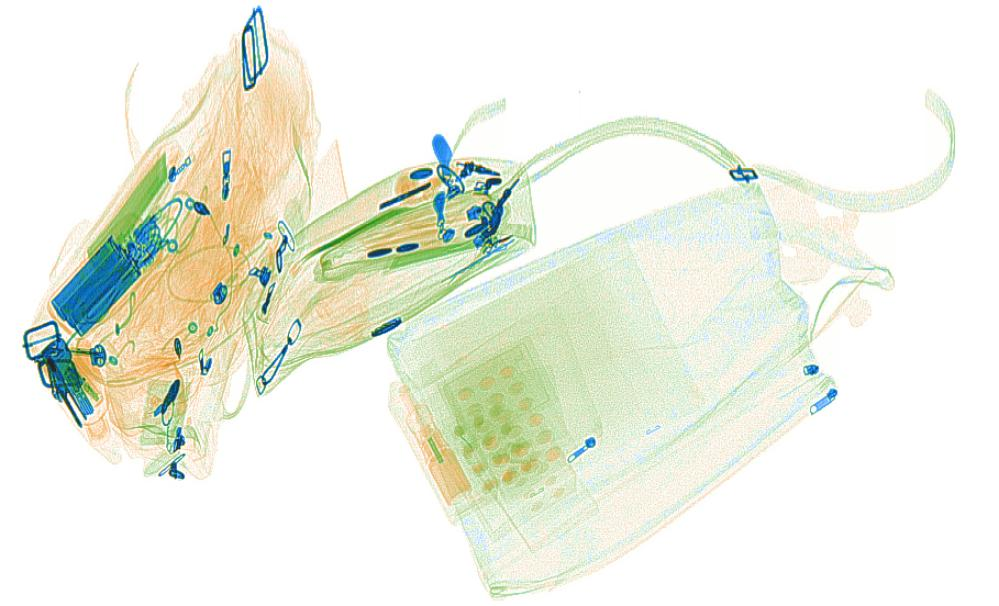battery: (46, 208, 166, 336)
plasticBottleWithaNozzle: (402, 397, 477, 508)
